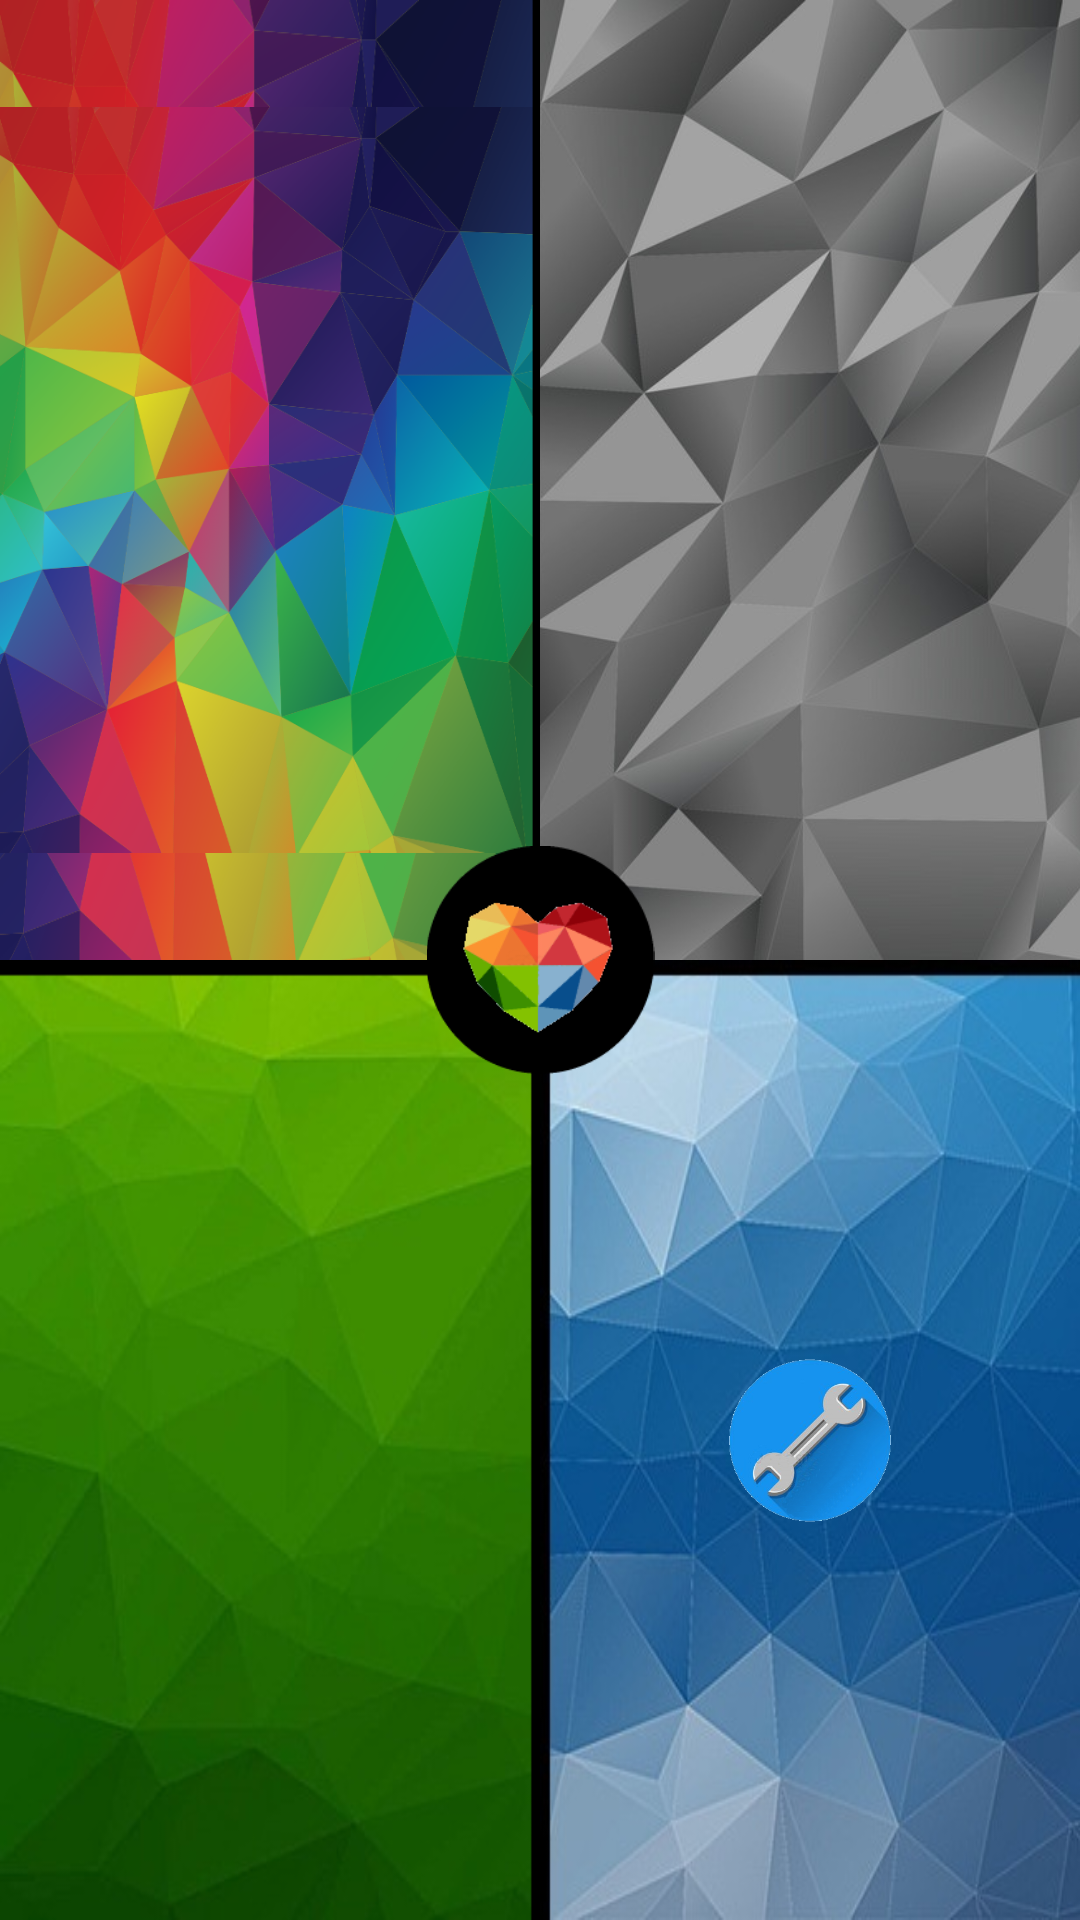

Where icons sit on this 1080×1920 app screen, as (x1, y1, x2, y2):
wrench: (679, 1319, 939, 1586)
